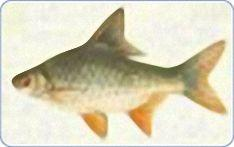Silver Barb: (11, 4, 232, 144)
